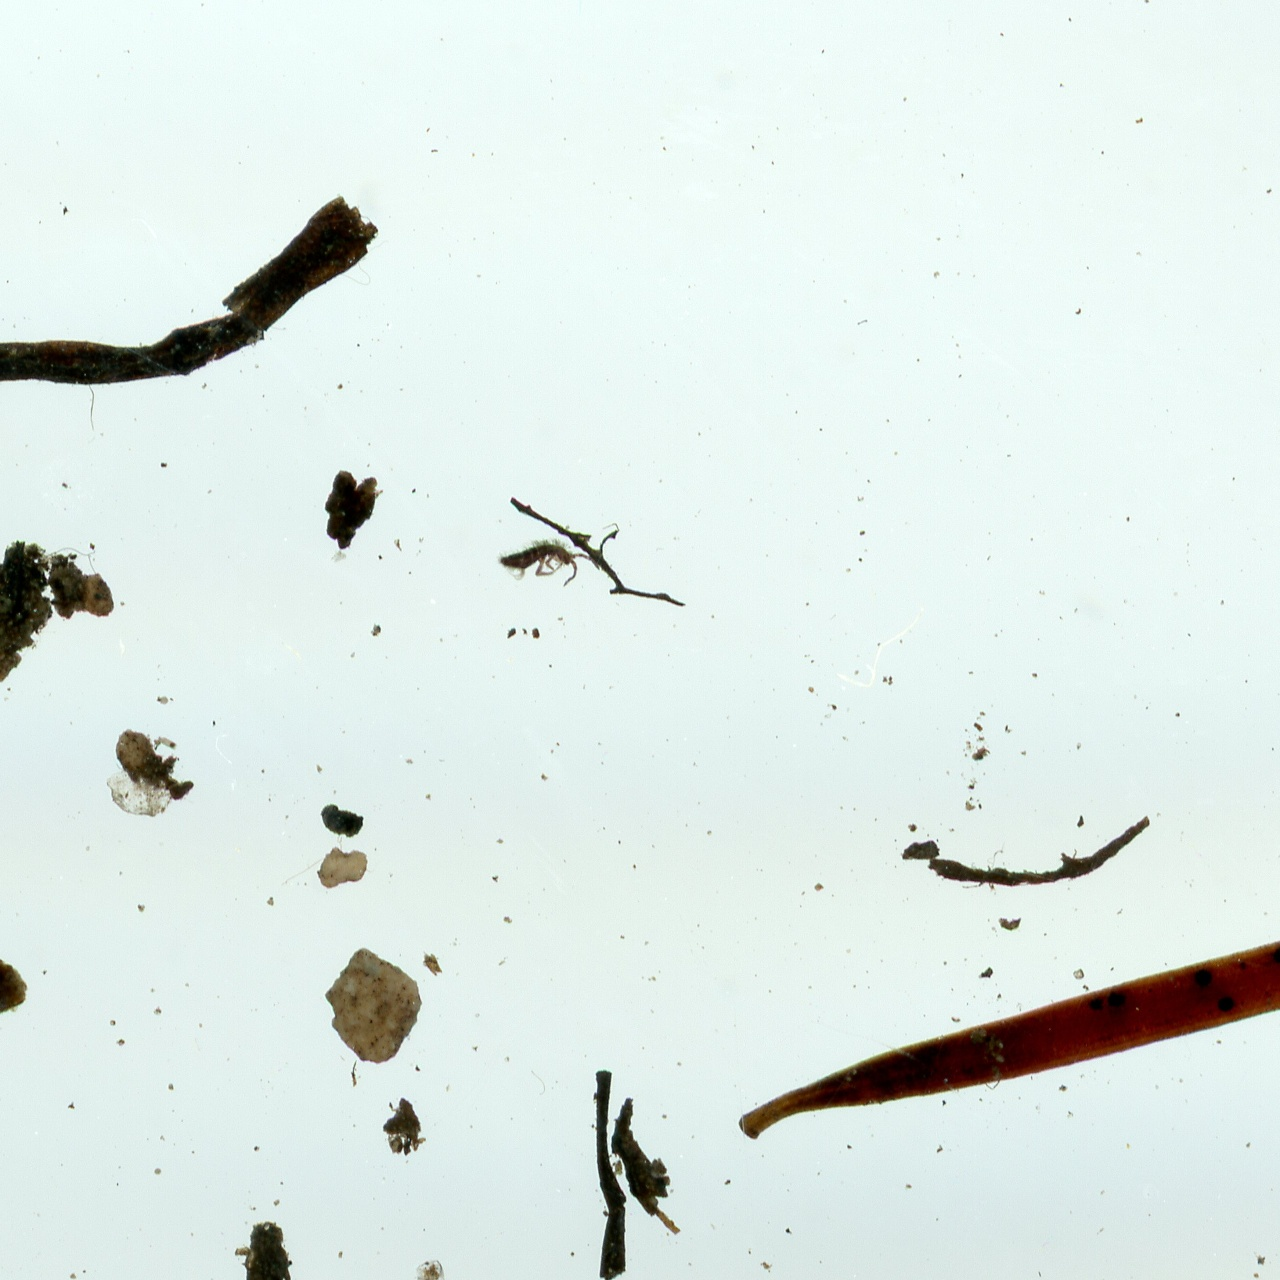arthropod: (496, 540, 590, 584)
